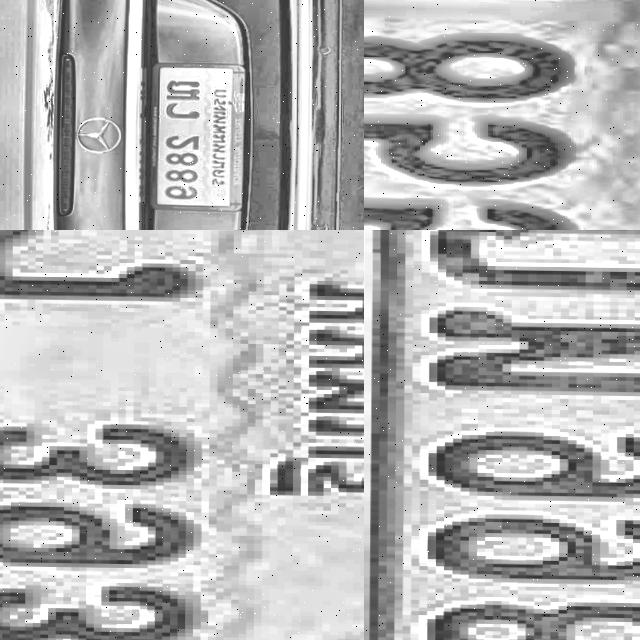license-plate: (0, 230, 364, 640), (364, 230, 640, 640), (364, 0, 640, 230), (146, 60, 246, 212)
